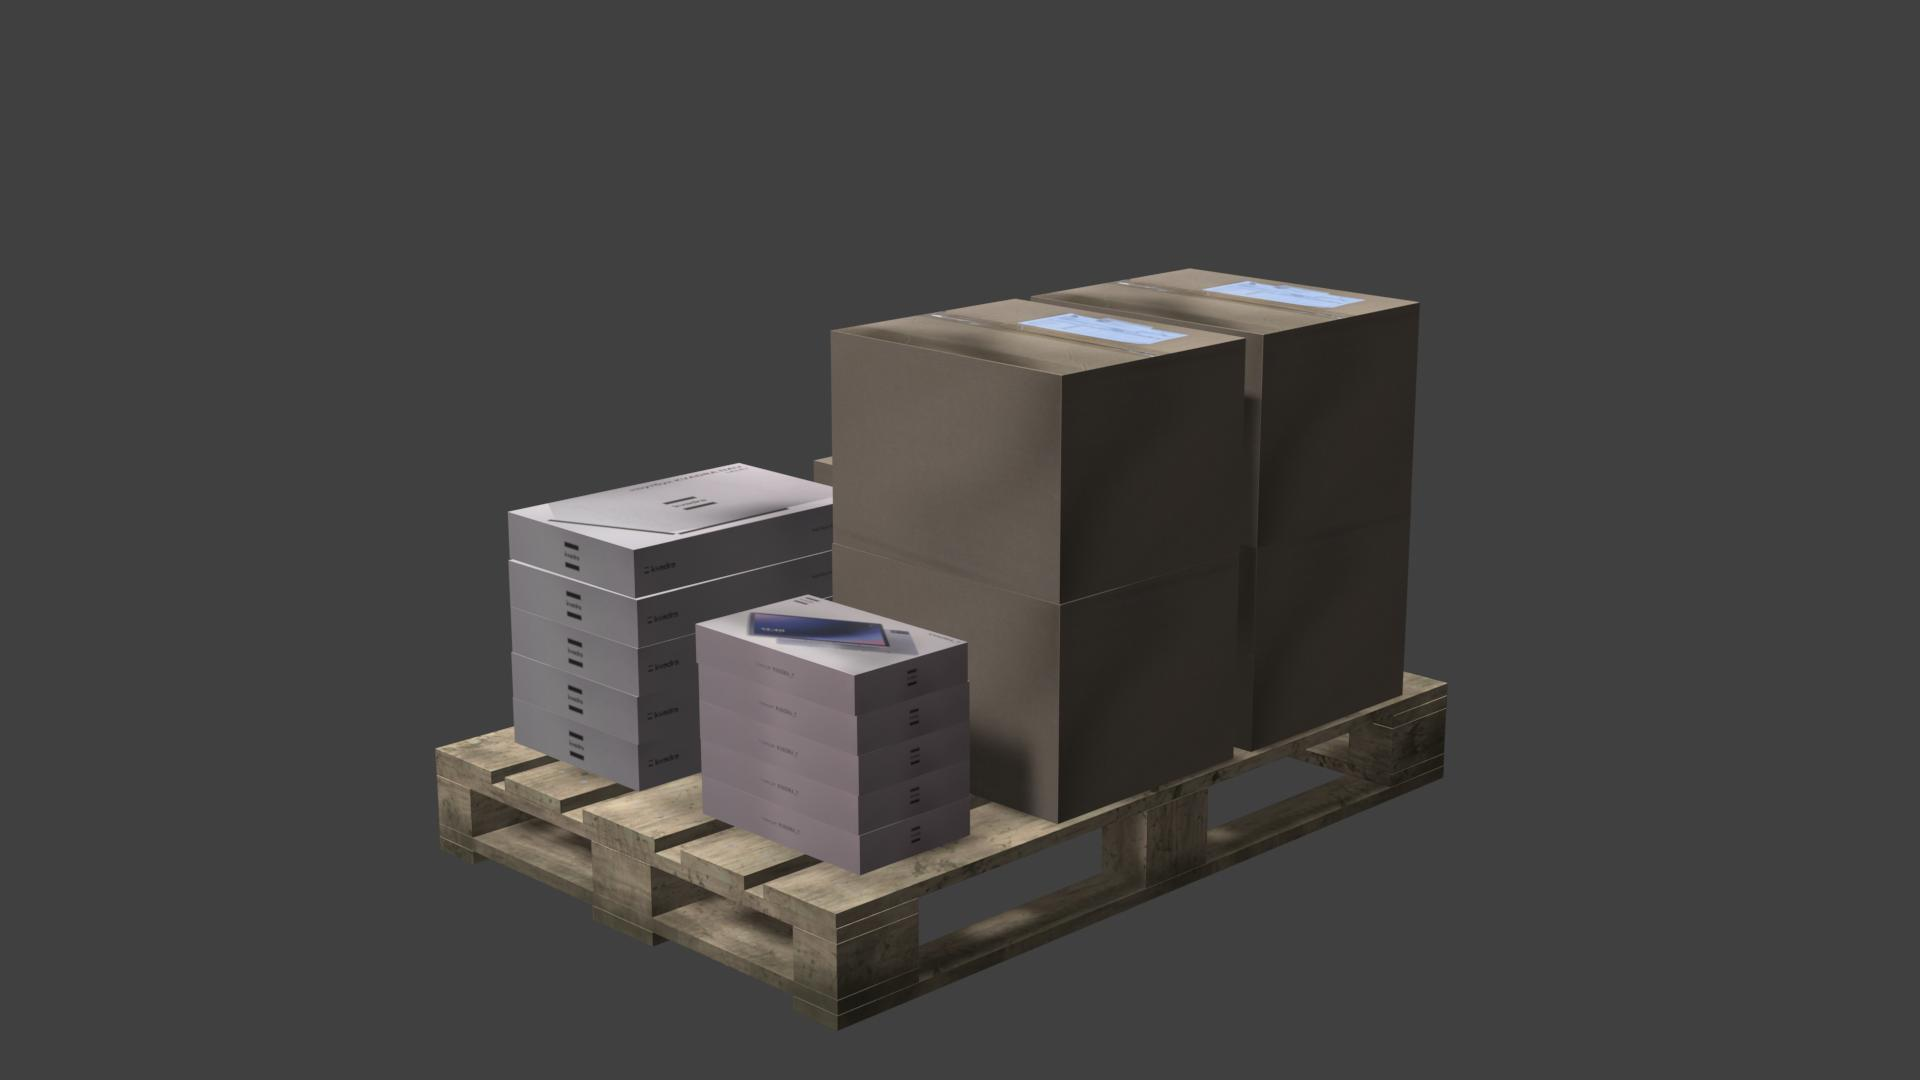group_box_left: (831, 545, 1238, 824), (831, 332, 1245, 603), (1234, 504, 1411, 752), (1242, 303, 1419, 549)
group_box_top: (831, 298, 1245, 376), (1034, 266, 1419, 335)
laptop_left: (509, 549, 832, 647), (510, 505, 832, 599), (514, 699, 700, 793), (512, 654, 700, 746), (510, 609, 698, 696)
laptop_top: (510, 463, 832, 551)
palet: (435, 673, 1448, 1033)
tablet_left: (703, 777, 971, 876), (700, 741, 971, 835), (696, 624, 968, 716), (700, 702, 968, 795), (699, 665, 968, 756)
tablet_top: (696, 595, 965, 676)
